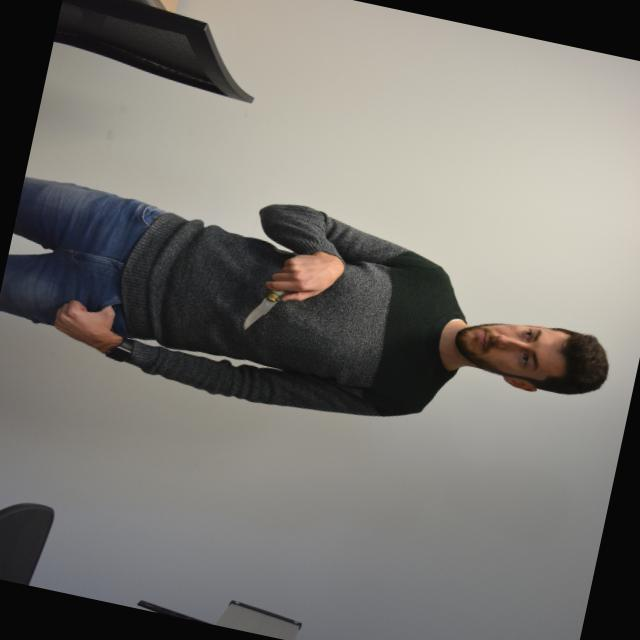knife: (231, 260, 317, 346)
